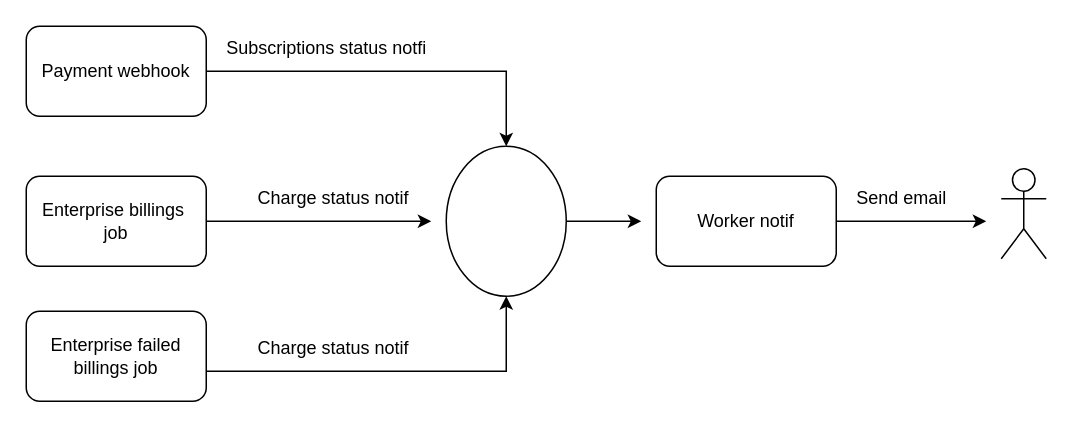
Some shapes in this 1089 by 428 pixel diagram are drawn without their labels. Each missing label, with the centre of its shape:
"Customer" belongs at (1023,213).
"Kafka" belongs at (505,220).
